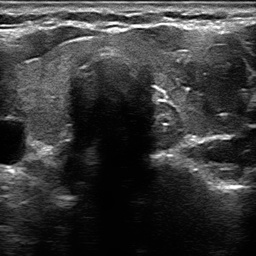mass: (180, 59, 251, 130)
